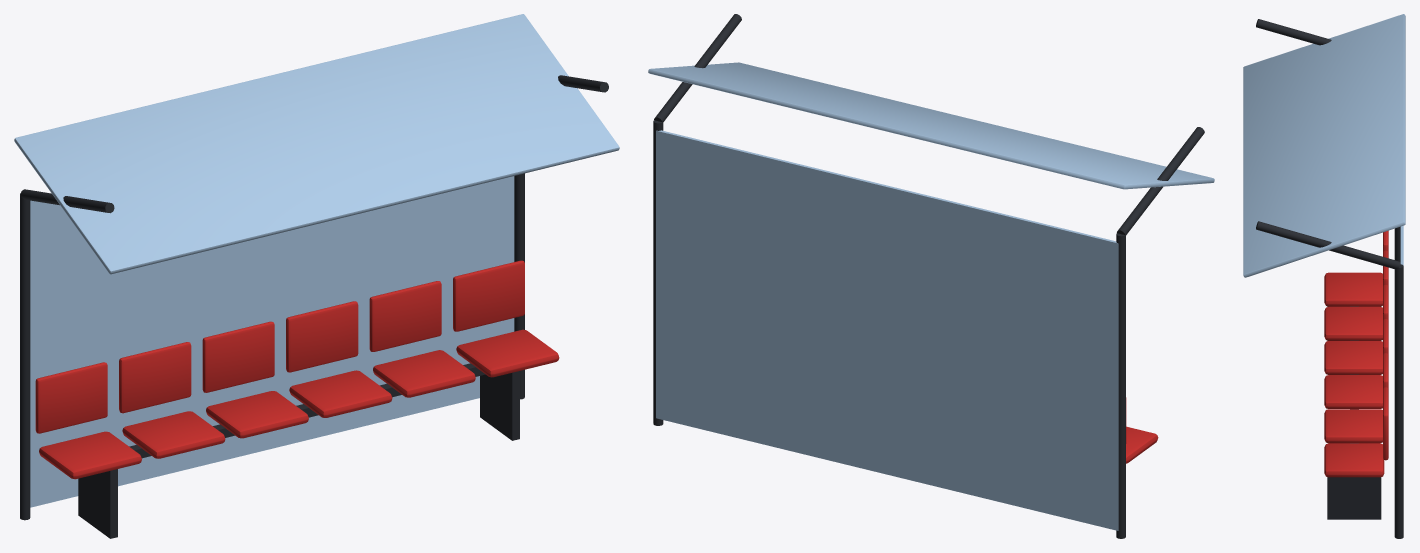
Rendered from banco-reservas.glb.
The picture shows the model from 3 angles, left to right: view 1: azimuth 30°, elevation 25°; view 2: azimuth 150°, elevation 25°; view 3: azimuth 270°, elevation 25°; orthographic projection. The views are drawn at different scales.
Parts seen in each view (by area): view 1: cobertura, fundo, encosto.002, encosto, encosto.003, encosto.001, encosto.004, encosto.005, poste, assento.005, assento, assento.003 (+7 smaller); view 2: fundo, cobertura, poste, braco, braco.001, poste.001, assento; view 3: cobertura, poste.001, pe.001, assento.005, assento.001, assento, assento.004, assento.002, assento.003, braco.001, braco, encosto.005 (+1 smaller).
Boxes of the visible parts, left/top/right/bottom form: cobertura: left=14, top=14, right=619, bottom=274; fundo: left=30, top=176, right=514, bottom=507; encosto.002: left=202, top=321, right=274, bottom=392; encosto: left=35, top=362, right=107, bottom=433; encosto.003: left=286, top=301, right=358, bottom=372; encosto.001: left=119, top=342, right=191, bottom=413; encosto.004: left=369, top=281, right=441, bottom=351; encosto.005: left=453, top=260, right=524, bottom=331; poste: left=20, top=193, right=30, bottom=520; assento.005: left=456, top=329, right=559, bottom=377; assento: left=39, top=431, right=141, bottom=479; assento.003: left=289, top=370, right=392, bottom=417; fundo: left=656, top=130, right=1118, bottom=530; cobertura: left=648, top=62, right=1214, bottom=189; poste: left=1116, top=233, right=1125, bottom=538; braco: left=1117, top=127, right=1204, bottom=235; braco.001: left=654, top=14, right=741, bottom=122; poste.001: left=653, top=120, right=663, bottom=425; assento: left=1126, top=426, right=1158, bottom=463; cobertura: left=1243, top=14, right=1405, bottom=277; poste.001: left=1394, top=264, right=1403, bottom=538; pe.001: left=1327, top=477, right=1381, bottom=519; assento.005: left=1324, top=443, right=1384, bottom=477; assento.001: left=1324, top=306, right=1382, bottom=340; assento: left=1324, top=272, right=1382, bottom=306; assento.004: left=1324, top=409, right=1382, bottom=443; assento.002: left=1324, top=341, right=1382, bottom=374; assento.003: left=1324, top=375, right=1382, bottom=408; braco.001: left=1256, top=221, right=1400, bottom=269; braco: left=1256, top=19, right=1331, bottom=45; encosto.005: left=1383, top=387, right=1388, bottom=460.
Bounding box in the file's own units: 3.3 × 2.35 × 1.08.
